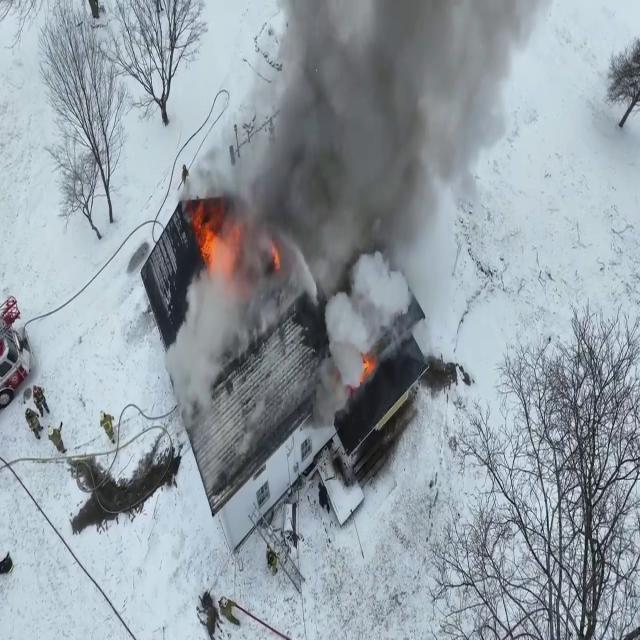Smoke: (195, 0, 509, 353)
